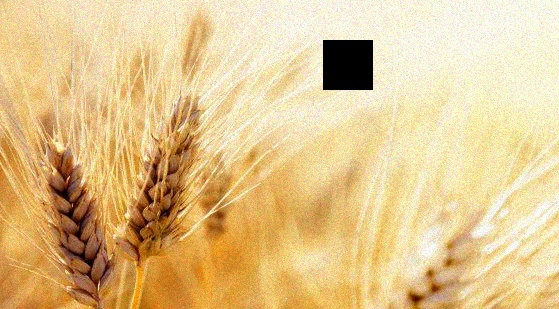wheat: (125, 35, 234, 286), (21, 103, 118, 304)
